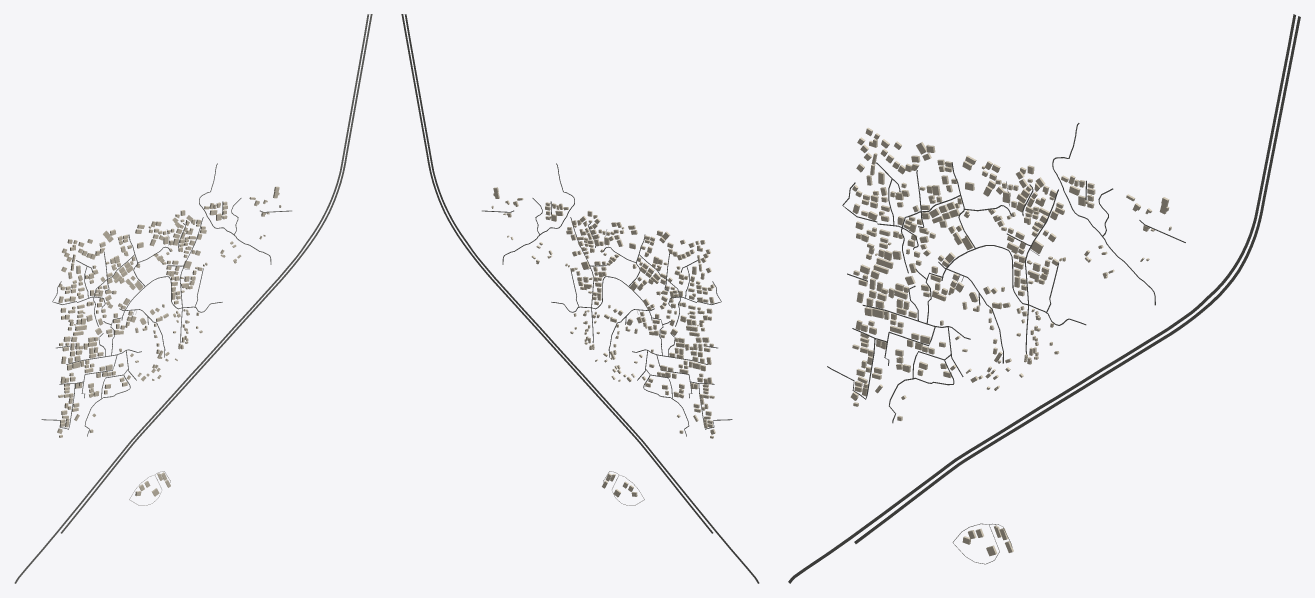
File: historic-palestine-11_24_3526_3180.glb
3 renders of one model, left to right at view 1: azimuth 30°, elevation 25°; view 2: azimuth 150°, elevation 25°; view 3: azimuth 330°, elevation 25°, orthographic. The views are drawn at different scales.
Parts seen in each view (by area): view 1: Road, Road כביש הטבעת המזרחי; view 2: Road, Road כביש הטבעת המזרחי; view 3: Road, Road כביש הטבעת המזרחי.
Boxes of the visible parts, left/top/right/bottom form: Road: left=14, top=14, right=369, bottom=583; Road כביש הטבעת המזרחי: left=60, top=14, right=372, bottom=533; Road: left=404, top=14, right=759, bottom=583; Road כביש הטבעת המזרחי: left=401, top=14, right=713, bottom=533; Road: left=788, top=14, right=1295, bottom=583; Road כביש הטבעת המזרחי: left=854, top=16, right=1300, bottom=543.
Bounding box in the file's own units: 1526 × 1970 × 8.7.
